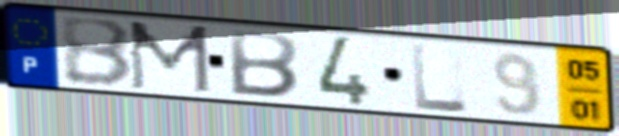4: (313, 34, 376, 109)
9: (489, 50, 545, 119)
B: (57, 16, 136, 90), (226, 27, 302, 101)
L: (408, 41, 472, 115)
M: (125, 19, 215, 96)
